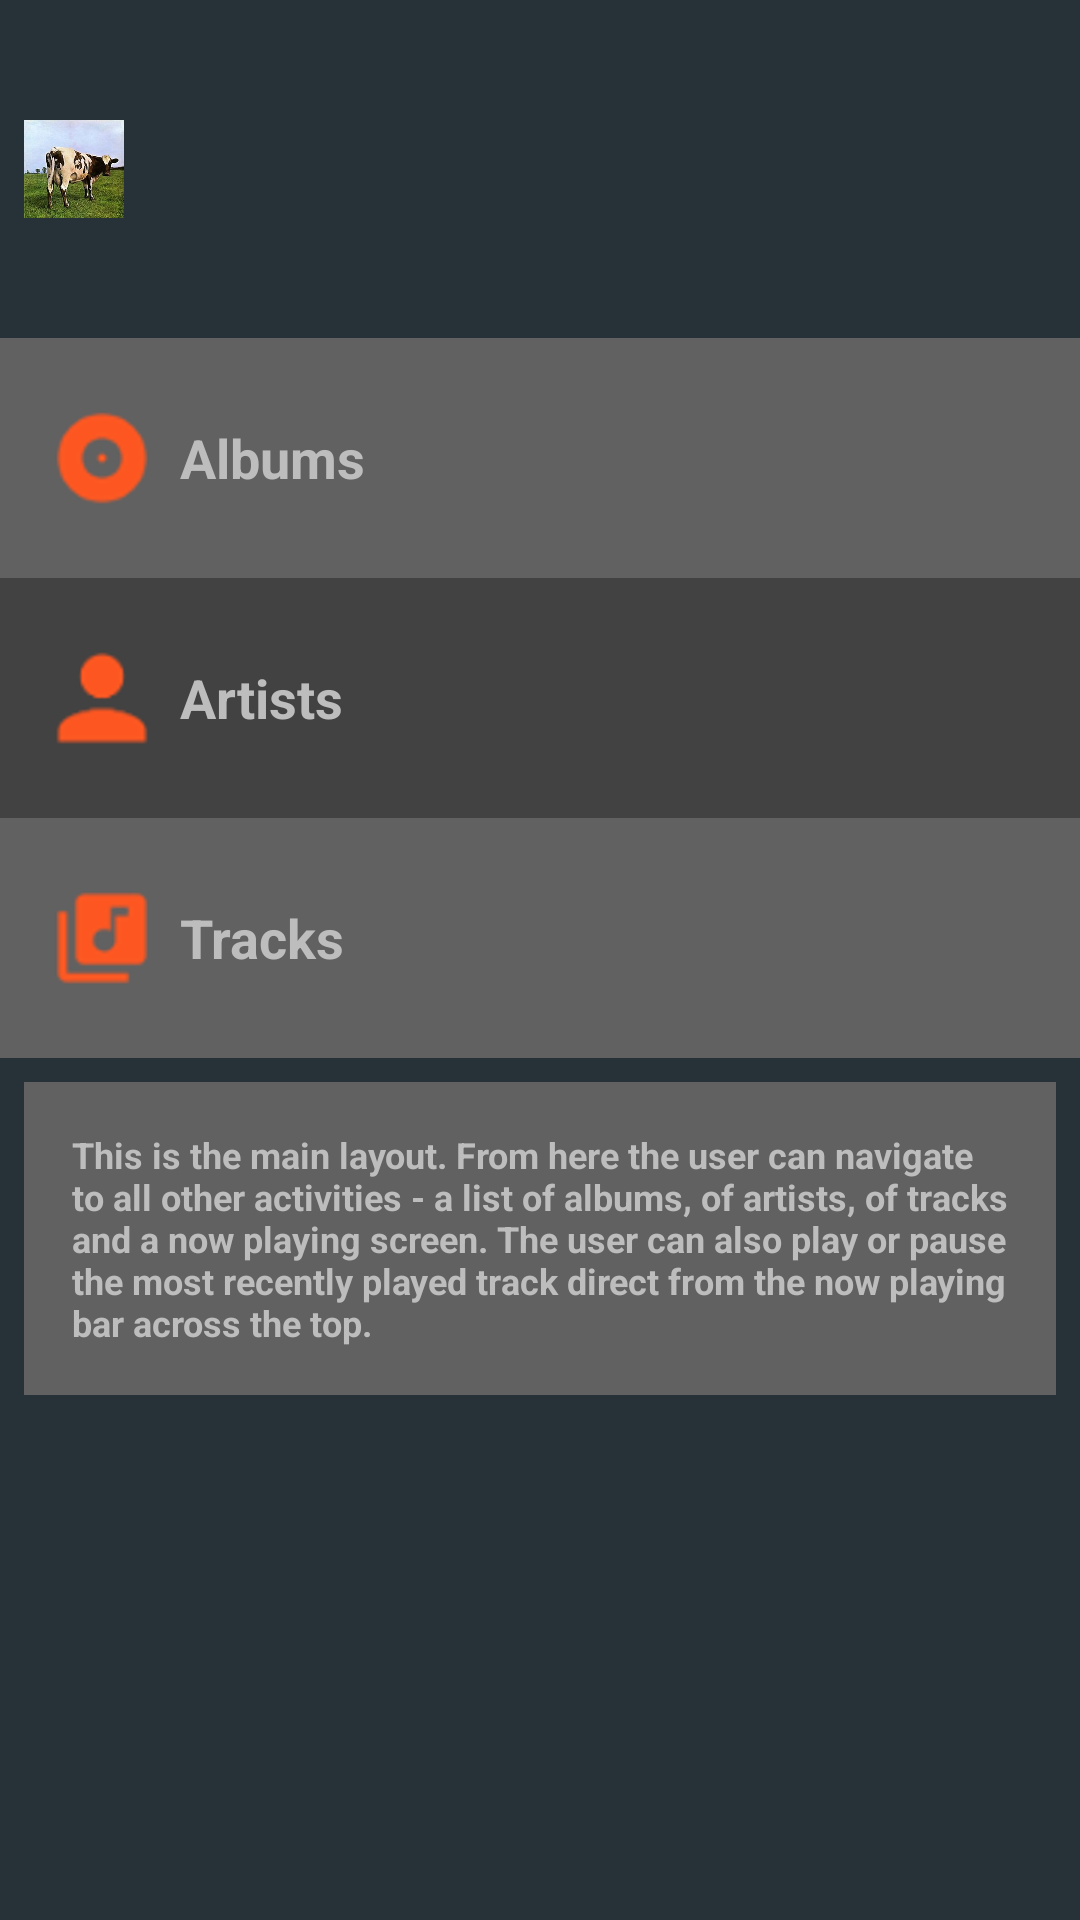

Icons on this 1080w x 1920h Android screen, each with the point to tap as (x,y):
atom heart mother: (74,169)
